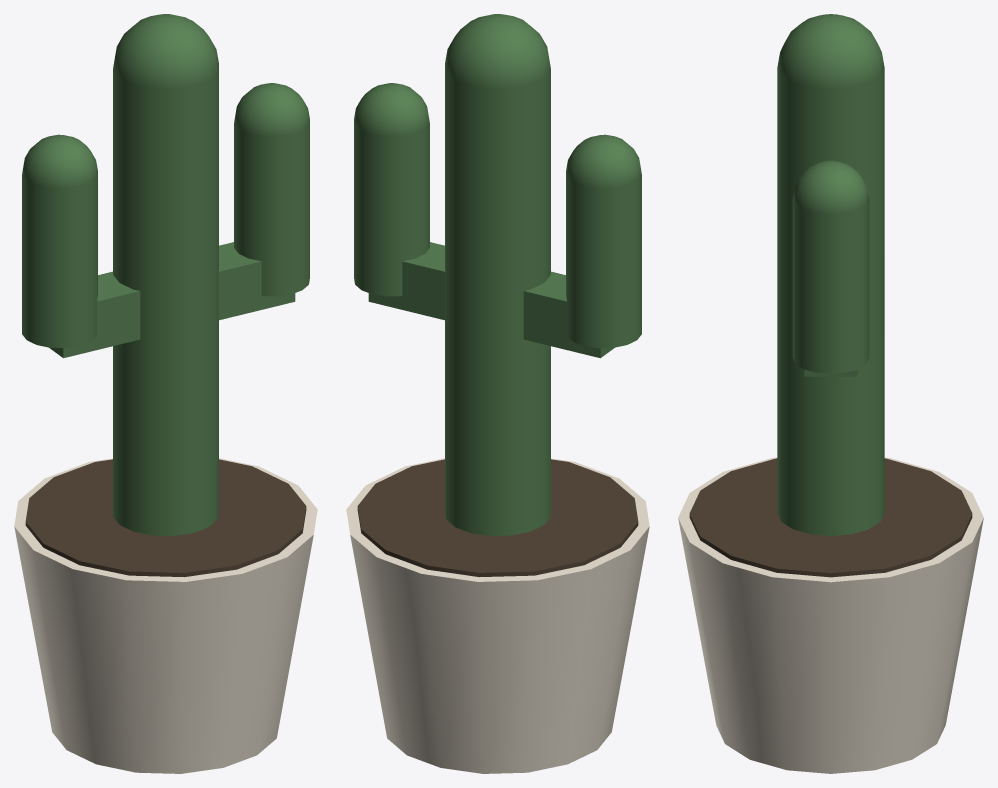
The picture shows the model from 3 angles, left to right: view 1: azimuth 30°, elevation 25°; view 2: azimuth 150°, elevation 25°; view 3: azimuth 270°, elevation 25°; orthographic projection.
Parts seen in each view (by area): view 1: pot, trunk, soil, arm-0.16, arm0.16, tip, tip0.16, tip-0.16, branch-0.16, branch0.16; view 2: pot, trunk, soil, arm-0.16, arm0.16, tip, tip0.16, tip-0.16, branch-0.16, branch0.16; view 3: pot, trunk, soil, arm0.16, tip, tip0.16.
Boxes of the visible parts, x1,y1,x2,y2 form: pot: [14, 458, 317, 773]; trunk: [113, 66, 218, 535]; soil: [25, 459, 306, 577]; arm-0.16: [22, 171, 97, 348]; arm0.16: [234, 120, 309, 296]; tip: [113, 14, 218, 89]; tip0.16: [234, 83, 309, 136]; tip-0.16: [22, 134, 97, 188]; branch-0.16: [49, 271, 140, 358]; branch0.16: [218, 242, 295, 320]; pot: [346, 458, 649, 773]; trunk: [445, 66, 550, 535]; soil: [357, 459, 638, 577]; arm-0.16: [566, 171, 641, 348]; arm0.16: [354, 120, 429, 296]; tip: [445, 14, 550, 89]; tip0.16: [354, 83, 429, 136]; tip-0.16: [566, 134, 641, 188]; branch-0.16: [523, 271, 614, 358]; branch0.16: [368, 242, 445, 320]; pot: [678, 457, 983, 773]; trunk: [777, 67, 884, 535]; soil: [689, 458, 972, 577]; arm0.16: [792, 199, 869, 373]; tip: [777, 14, 884, 89]; tip0.16: [792, 160, 869, 214].
Size of the model in its own units: 0.42 by 1.02 by 0.4.
